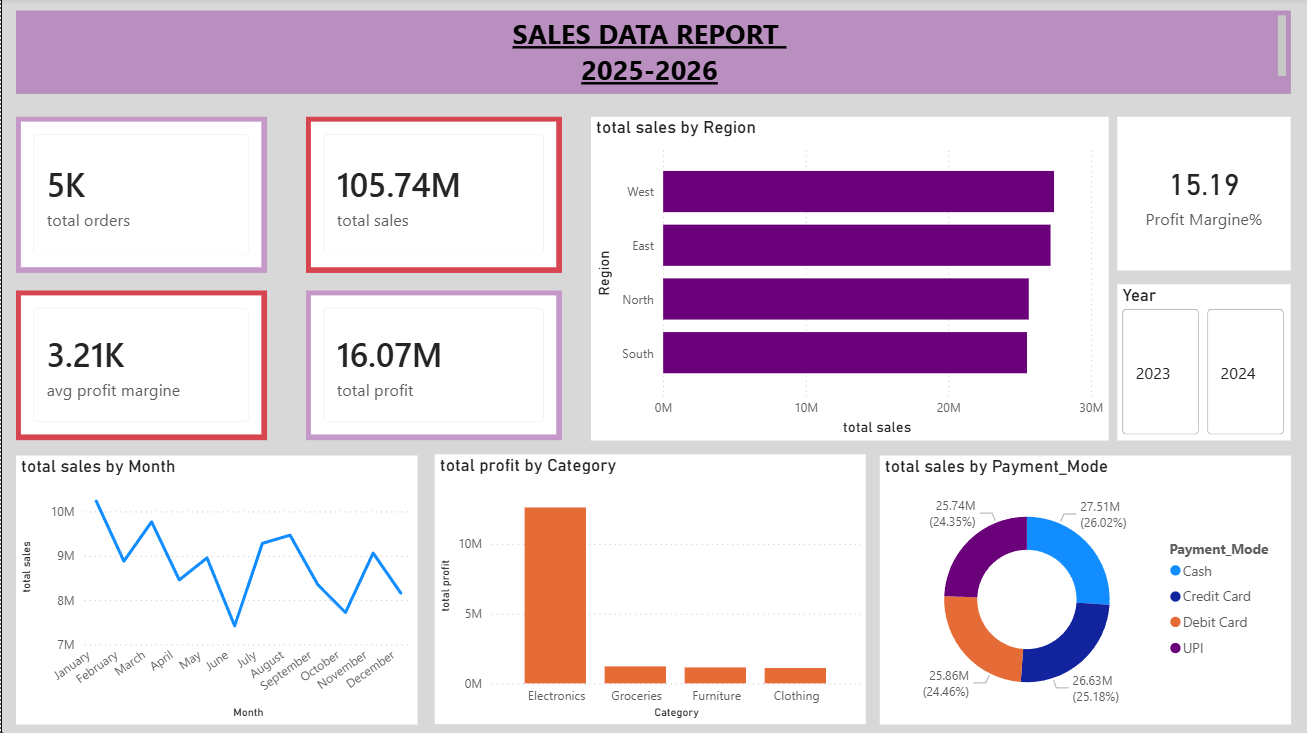

What the dashboard file says about the page in this screenshot:
{"tool":"powerbi","page":{"name":"Page 1","canvas":[1280,720],"ordinal":0},"visuals":[{"type":"textbox","box":[14.7,12.2,1247.3,81.9],"z":0},{"type":"barChart","fields":{"Category":["Advanced_Sales_Dataset_5000_Rows.Region"],"Y":["Advanced_Sales_Dataset_5000_Rows.total sales"]},"box":[577.2,116.2,506.3,316.7],"z":1000},{"type":"lineChart","fields":{"Category":["Advanced_Sales_Dataset_5000_Rows.Order_Date.Variation.Date Hierarchy.Month"],"Y":["Advanced_Sales_Dataset_5000_Rows.total sales"]},"box":[14.7,447.6,392.5,262.9],"z":2000},{"type":"donutChart","fields":{"Category":["Advanced_Sales_Dataset_5000_Rows.Payment_Mode"],"Y":["Advanced_Sales_Dataset_5000_Rows.total sales"]},"box":[859.7,447.6,402.3,262.9],"z":3000},{"type":"columnChart","fields":{"Category":["Advanced_Sales_Dataset_5000_Rows.Category"],"Y":["Advanced_Sales_Dataset_5000_Rows.total profit"]},"box":[424.3,446.3,421.9,264.1],"z":4000},{"type":"cardVisual","fields":{"Data":["Advanced_Sales_Dataset_5000_Rows.total orders"]},"box":[14.7,116.2,245.8,152.9],"z":5000},{"type":"cardVisual","fields":{"Data":["Advanced_Sales_Dataset_5000_Rows.total profit"]},"box":[298.4,286.1,250.7,146.7],"z":6000},{"type":"cardVisual","fields":{"Data":["Advanced_Sales_Dataset_5000_Rows.avg profit margine"]},"box":[14.7,286.1,245.8,146.7],"z":7000},{"type":"cardVisual","fields":{"Data":["Advanced_Sales_Dataset_5000_Rows.total sales"]},"box":[298.4,116.2,250.7,152.9],"z":8000},{"type":"advancedSlicerVisual","fields":{"Values":["Advanced_Sales_Dataset_5000_Rows.Order_Date.Variation.Date Hierarchy.Year"]},"box":[1092,280,170,152.9],"z":9000},{"type":"card","title":"Profit Margin%","fields":{"Values":["Advanced_Sales_Dataset_5000_Rows.margine"]},"box":[1092,116.2,170,150.4],"z":10000}]}

Visuals, with their boxes in screenshot pixels (x1, y1, x2, y2), scaled from the page's 1280x720 canvas onto the 1307x733 screenshot:
textbox: Rect(15, 12, 1289, 96)
barChart - Advanced_Sales_Dataset_5000_Rows.Region x Advanced_Sales_Dataset_5000_Rows.total sales: Rect(589, 118, 1106, 441)
lineChart - Advanced_Sales_Dataset_5000_Rows.Order_Date.Variation.Date Hierarchy.Month x Advanced_Sales_Dataset_5000_Rows.total sales: Rect(15, 456, 416, 723)
donutChart - Advanced_Sales_Dataset_5000_Rows.Payment_Mode x Advanced_Sales_Dataset_5000_Rows.total sales: Rect(878, 456, 1289, 723)
columnChart - Advanced_Sales_Dataset_5000_Rows.Category x Advanced_Sales_Dataset_5000_Rows.total profit: Rect(433, 454, 864, 723)
cardVisual - Advanced_Sales_Dataset_5000_Rows.total orders: Rect(15, 118, 266, 274)
cardVisual - Advanced_Sales_Dataset_5000_Rows.total profit: Rect(305, 291, 561, 441)
cardVisual - Advanced_Sales_Dataset_5000_Rows.avg profit margine: Rect(15, 291, 266, 441)
cardVisual - Advanced_Sales_Dataset_5000_Rows.total sales: Rect(305, 118, 561, 274)
advancedSlicerVisual - Advanced_Sales_Dataset_5000_Rows.Order_Date.Variation.Date Hierarchy.Year: Rect(1115, 285, 1289, 441)
"Profit Margin%" card: Rect(1115, 118, 1289, 271)
